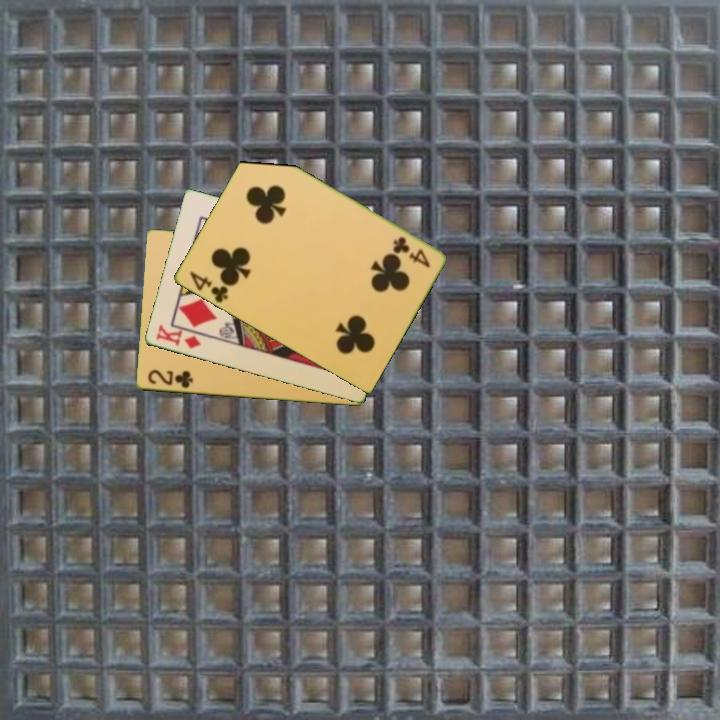2c: (144, 366, 196, 391)
4c: (186, 268, 231, 306), (389, 233, 433, 271)
Kd: (152, 321, 203, 352)
